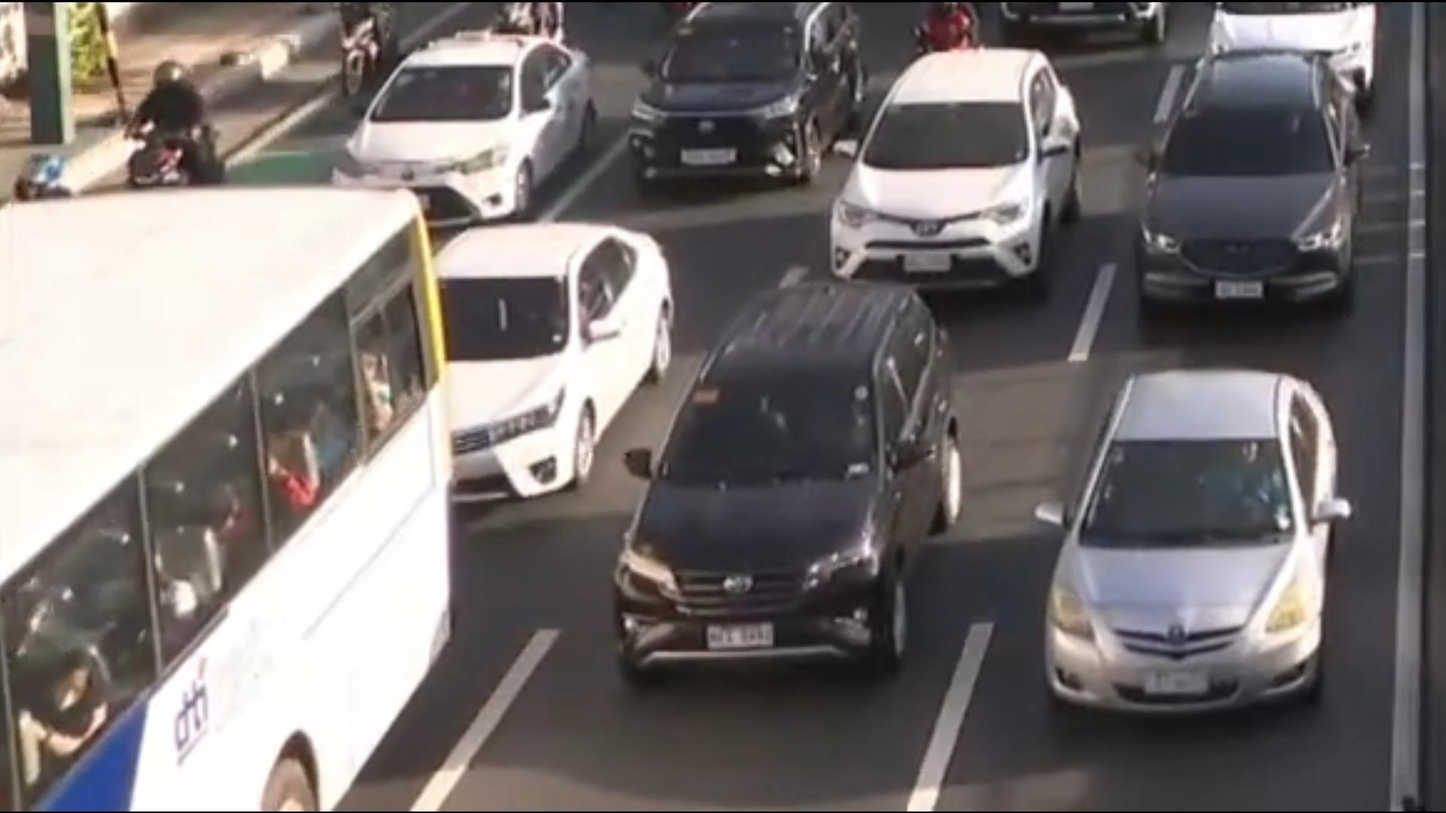Bus: (3, 181, 459, 813)
Motorcycle: (116, 57, 251, 219), (324, 0, 403, 107)
SUV: (607, 271, 973, 694), (1131, 45, 1369, 331), (825, 44, 1089, 294), (625, 0, 872, 191)
Sedan: (1029, 360, 1360, 727), (425, 217, 677, 510), (331, 28, 599, 226)
